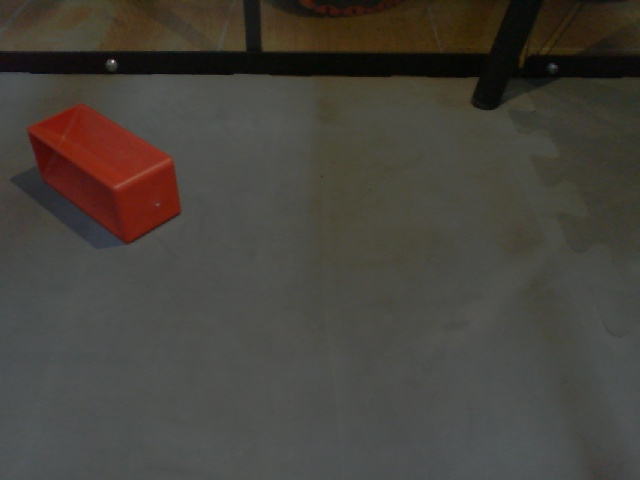RedSample: (27, 103, 185, 246)
